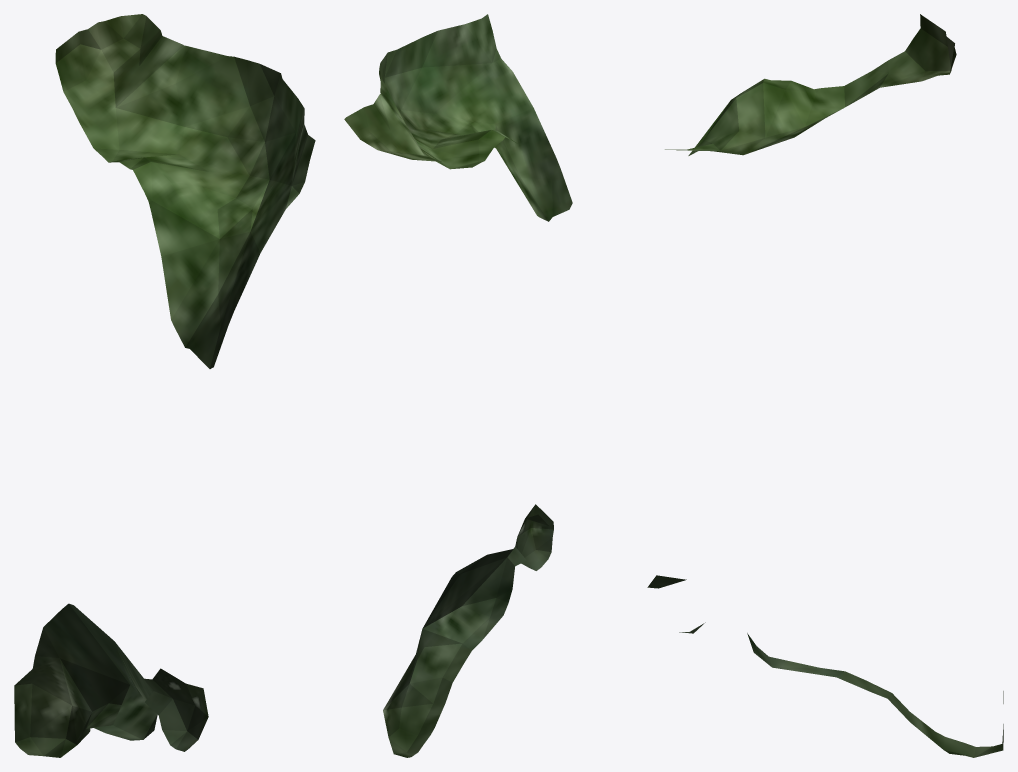
3 renders of one model, left to right at view 1: azimuth 30°, elevation 25°; view 2: azimuth 150°, elevation 25°; view 3: azimuth 270°, elevation 25°, orthographic. The views are drawn at different scales.
Size of the model in its own units: 0.5006 by 2.41 by 1.2.
Materials: 1 (1 with a texture image).
